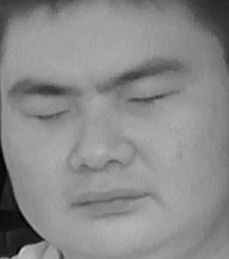blink: (125, 85, 176, 116), (22, 99, 71, 131)
mouth: (69, 180, 154, 222)
